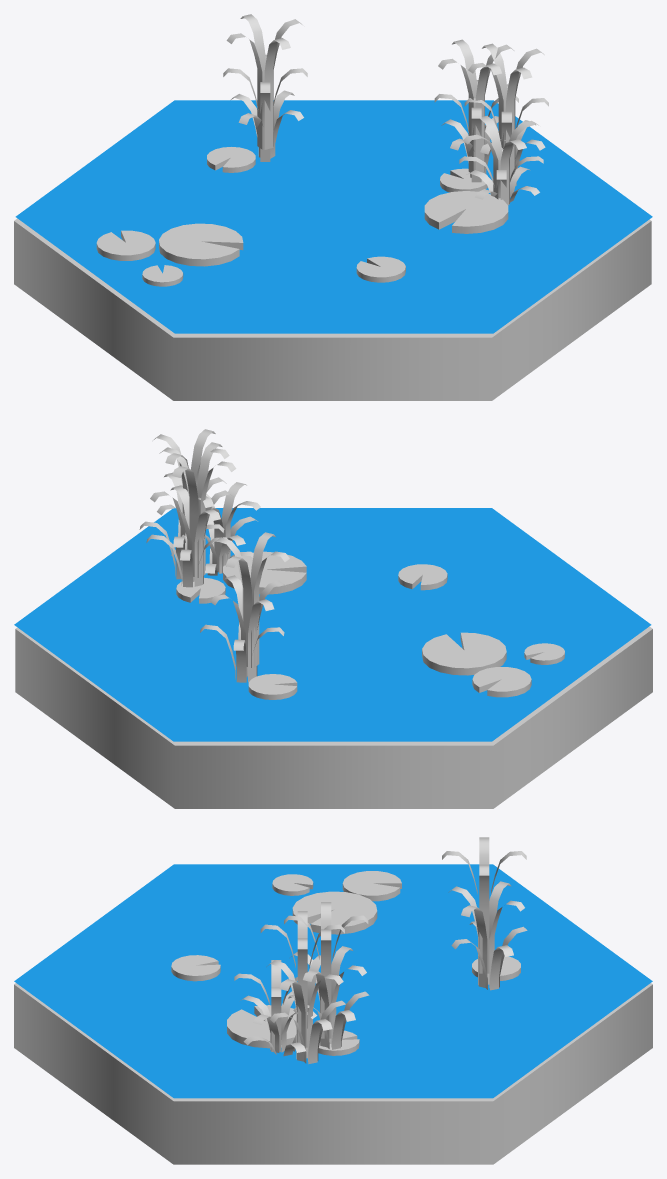
The model's file is Lake.FBX.
3 views of the same model, one above another, from view 1: azimuth 30°, elevation 25°; view 2: azimuth 150°, elevation 25°; view 3: azimuth 270°, elevation 25° (orthographic).
Parts seen in each view (by area): view 1: Object001, Cylinder045, Object006, Object004, Object008, Object002, Object003, Plane018, Plane004, Object005, Object007, Plane030 (+4 smaller); view 2: Object001, Cylinder045, Object006, Object004, Object008, Object003, Object002, Plane005, Object005, Plane019, Plane007, Object007 (+3 smaller); view 3: Object001, Cylinder045, Object006, Object004, Object008, Object002, Plane017, Plane029, Plane003, Object007, Plane021, Plane033 (+6 smaller).
Boxes of the visible parts, bbox=[...] form: Object001: bbox=[15, 100, 652, 333]; Cylinder045: bbox=[14, 218, 651, 400]; Object006: bbox=[159, 223, 243, 266]; Object004: bbox=[424, 191, 508, 233]; Object008: bbox=[96, 230, 155, 260]; Object002: bbox=[356, 256, 405, 282]; Object003: bbox=[207, 147, 255, 172]; Plane018: bbox=[264, 38, 290, 149]; Plane004: bbox=[475, 63, 501, 173]; Object005: bbox=[440, 168, 487, 192]; Object007: bbox=[142, 265, 183, 286]; Plane030: bbox=[506, 67, 532, 176]; Object001: bbox=[14, 508, 651, 741]; Cylinder045: bbox=[15, 626, 652, 808]; Object006: bbox=[422, 632, 506, 675]; Object004: bbox=[223, 551, 306, 594]; Object008: bbox=[472, 667, 531, 697]; Object003: bbox=[248, 674, 297, 699]; Object002: bbox=[398, 564, 447, 590]; Plane005: bbox=[172, 466, 198, 577]; Object005: bbox=[176, 577, 225, 603]; Plane019: bbox=[225, 556, 251, 667]; Plane007: bbox=[194, 509, 220, 586]; Object007: bbox=[524, 643, 564, 664]; Object001: bbox=[14, 864, 652, 1098]; Cylinder045: bbox=[14, 983, 652, 1164]; Object006: bbox=[292, 891, 377, 934]; Object004: bbox=[227, 1005, 296, 1048]; Object008: bbox=[342, 871, 401, 901]; Object002: bbox=[171, 955, 220, 981]; Plane017: bbox=[479, 864, 489, 973]; Plane029: bbox=[297, 938, 307, 1047]; Plane003: bbox=[321, 929, 331, 1038]; Object007: bbox=[272, 874, 313, 895]; Plane021: bbox=[461, 905, 487, 987]; Plane033: bbox=[279, 979, 305, 1061].
Bounding box in the file's own units: 164 × 64.71 × 189.
